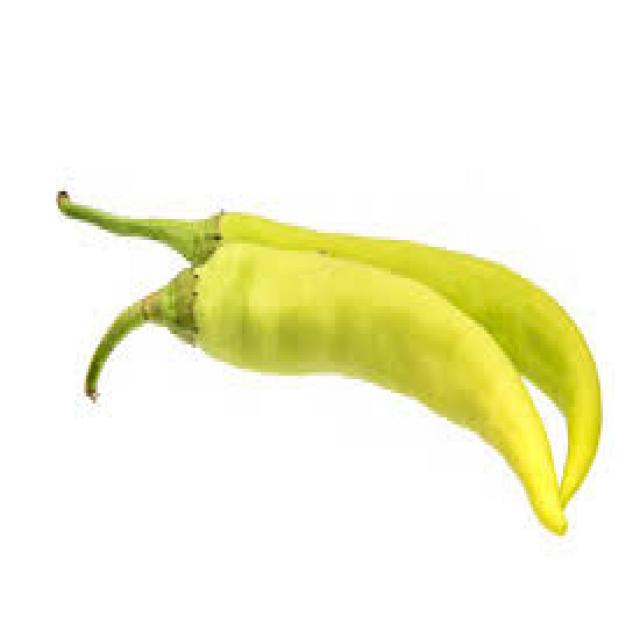green chilli: (84, 245, 564, 533)
